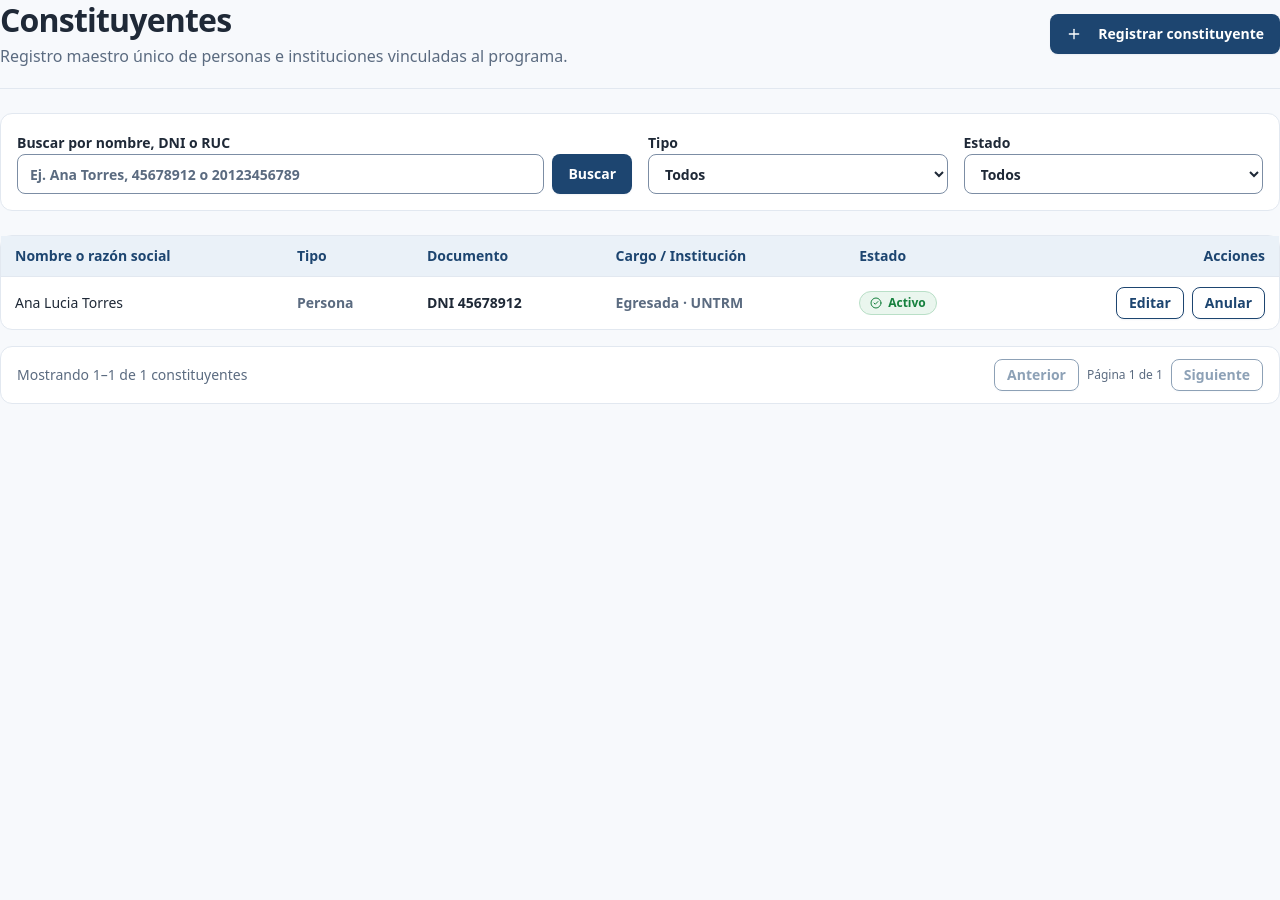
Test: StakeholdersPage (HU-021, T-021-17, T-021-29) › switches the dialog to edit mode for a duplicate
Check: the text "Ana Lucia Torres" is shown, box [1, 276, 283, 328]
Click the button "Registrar constituyente": (1165, 34) [1050, 14, 1279, 54]
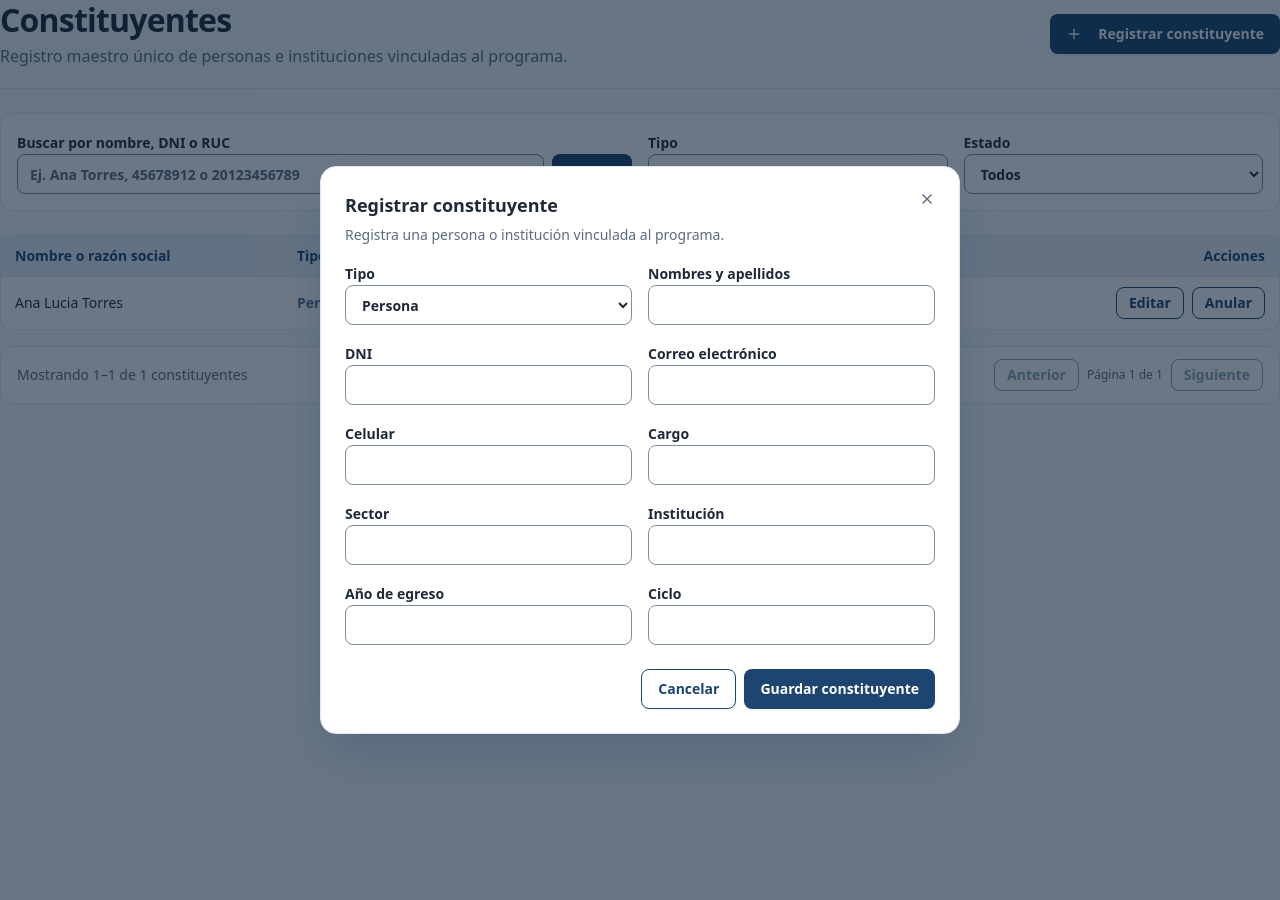
In the field labelled "Nombres y apellidos": (792, 305) [648, 285, 935, 325], type "Ana Lucia Duplicada"
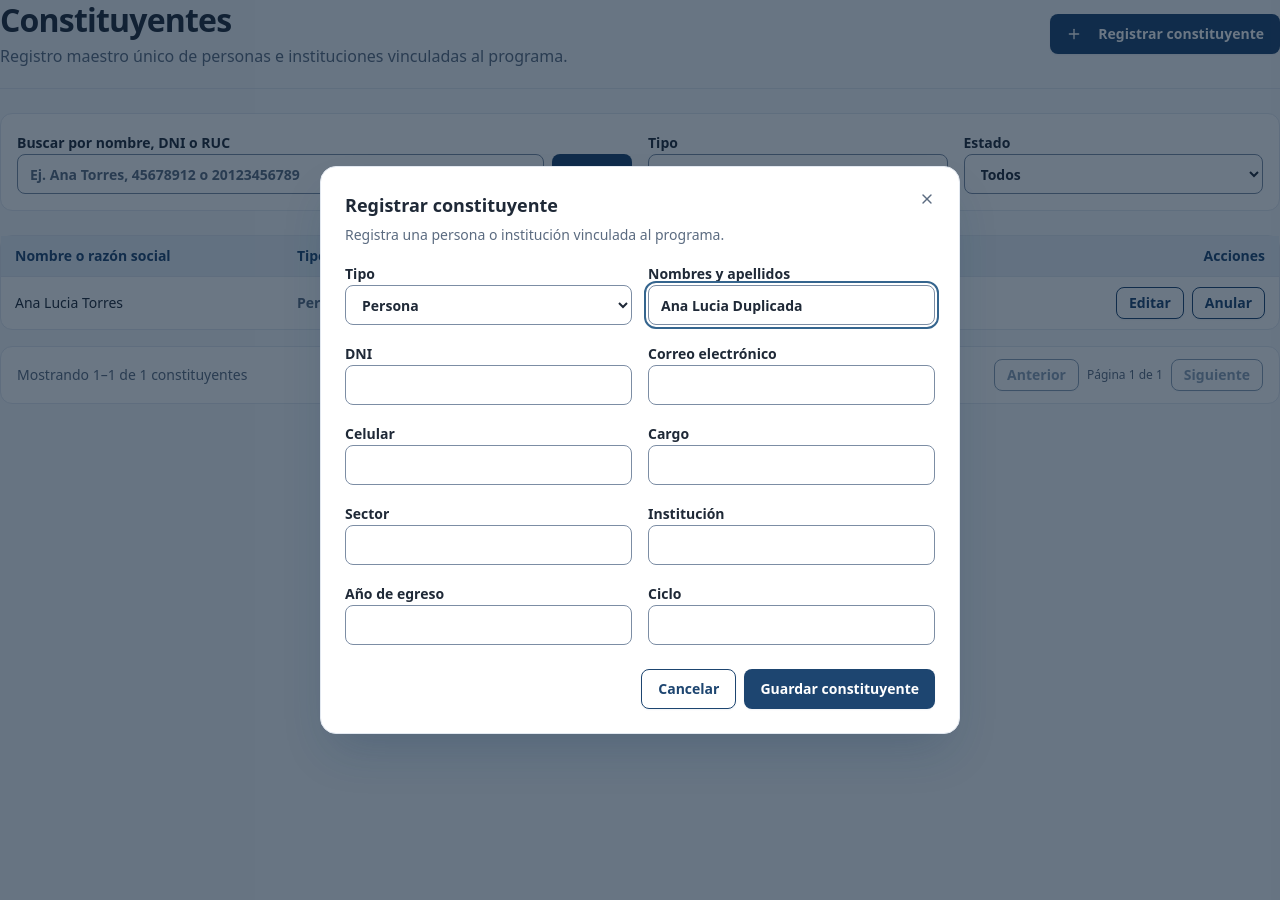
In the field labelled "DNI": (488, 385) [345, 365, 632, 405], type "45678912"
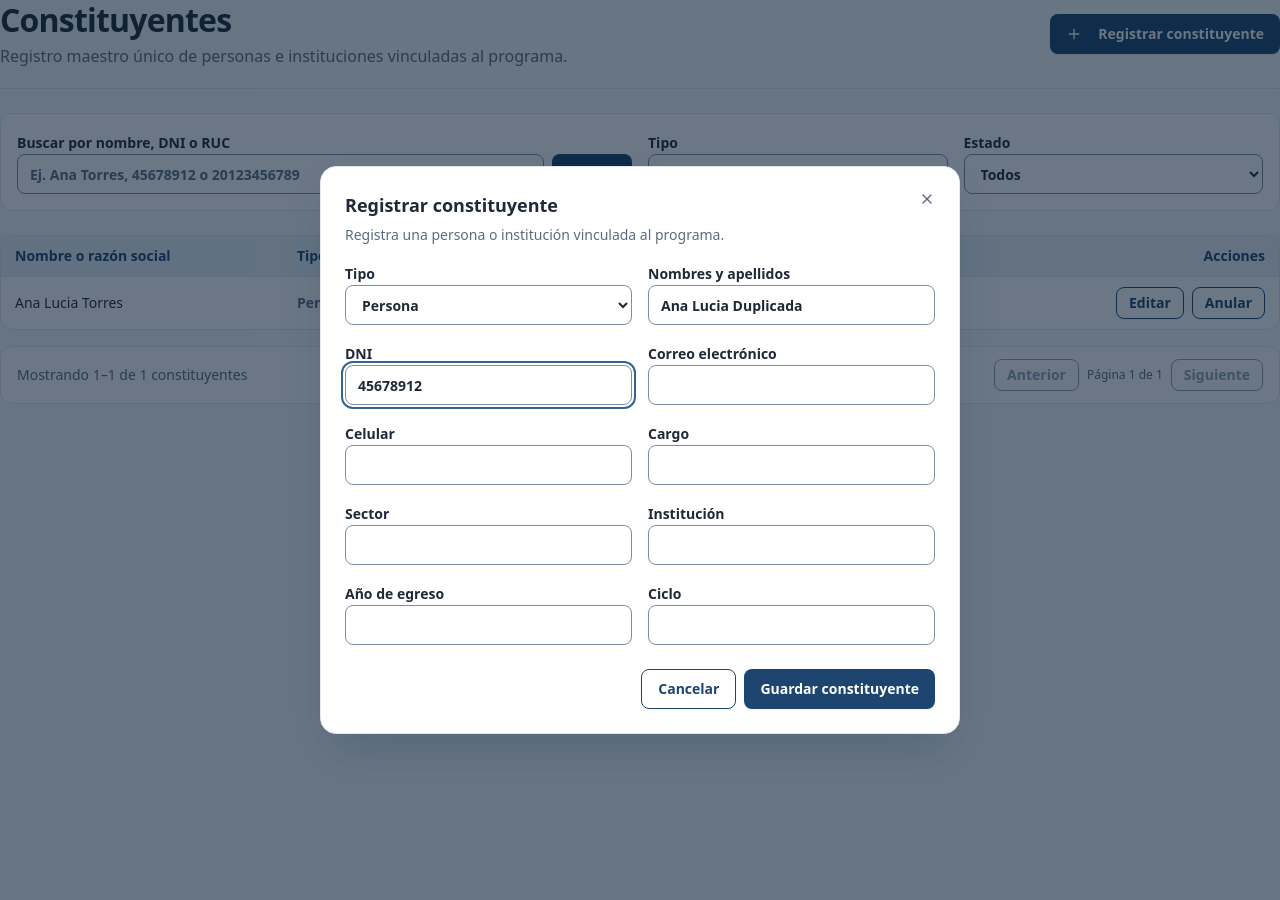
Click the button "Guardar constituyente": (840, 689) [744, 669, 935, 709]
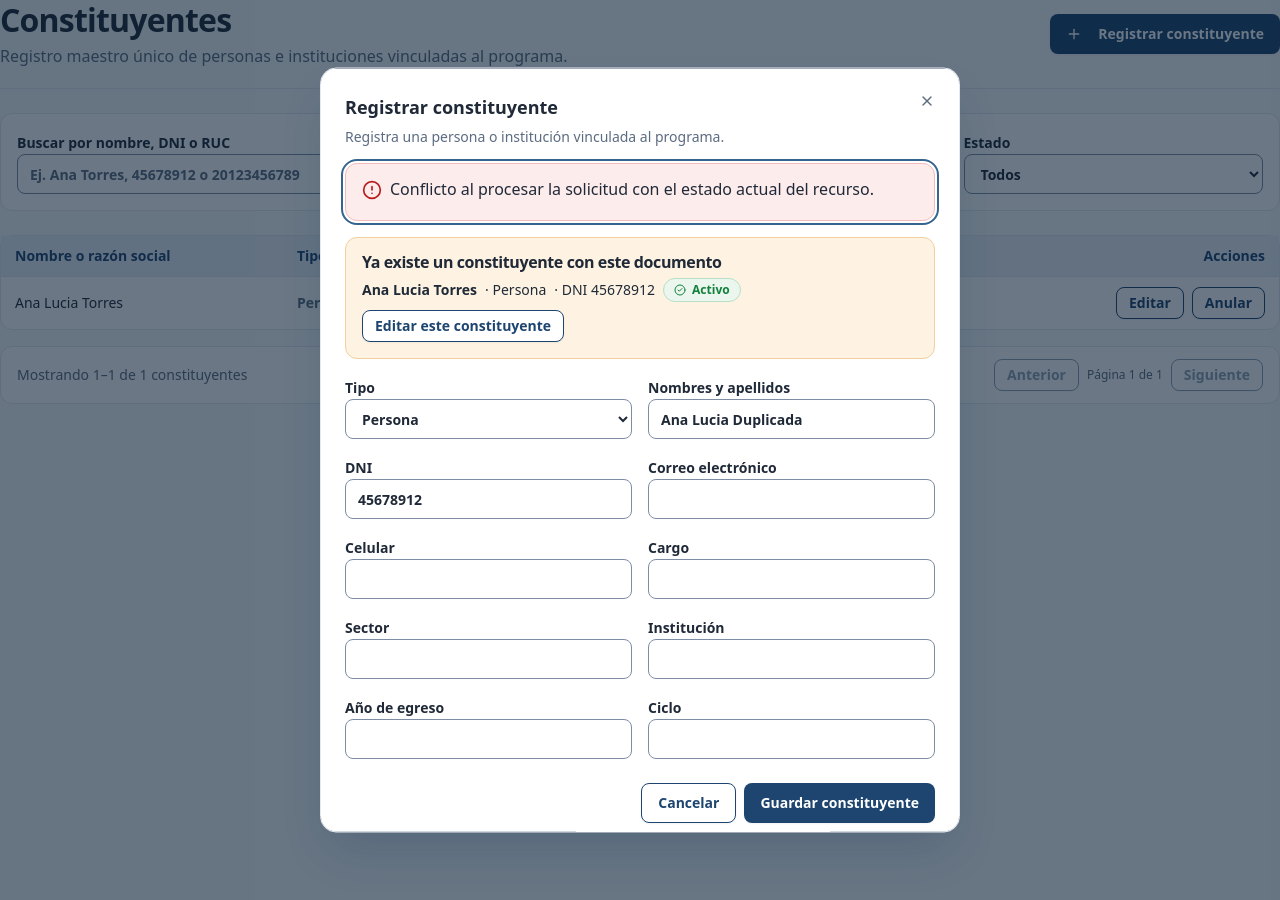
Click the button "Editar este constituyente": (463, 326) [362, 310, 564, 342]
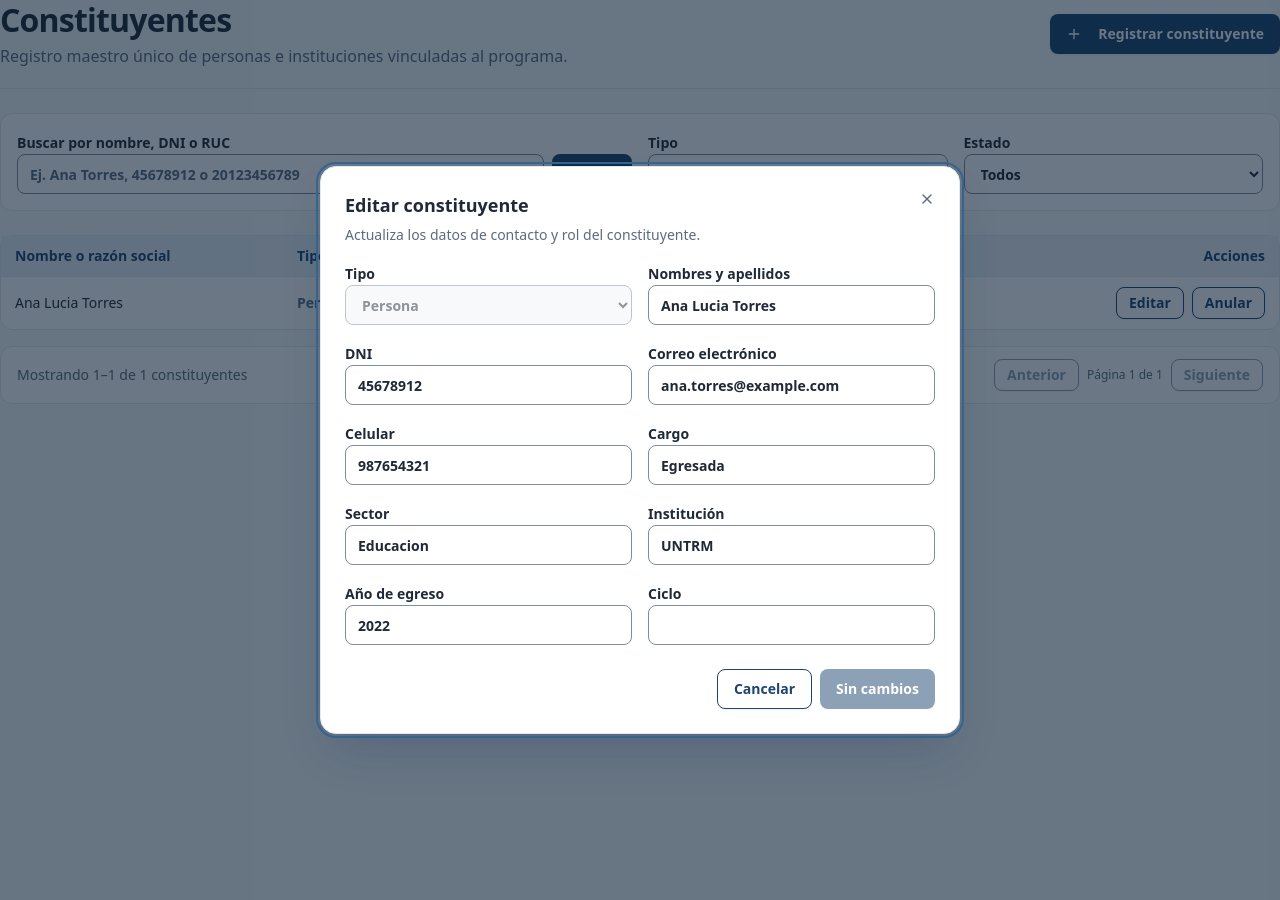
Check: the dialog shows "Editar constituyente", box [345, 193, 529, 217]
